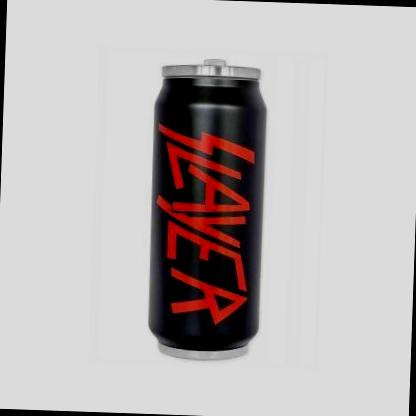alumunium_can: (145, 56, 271, 362)
